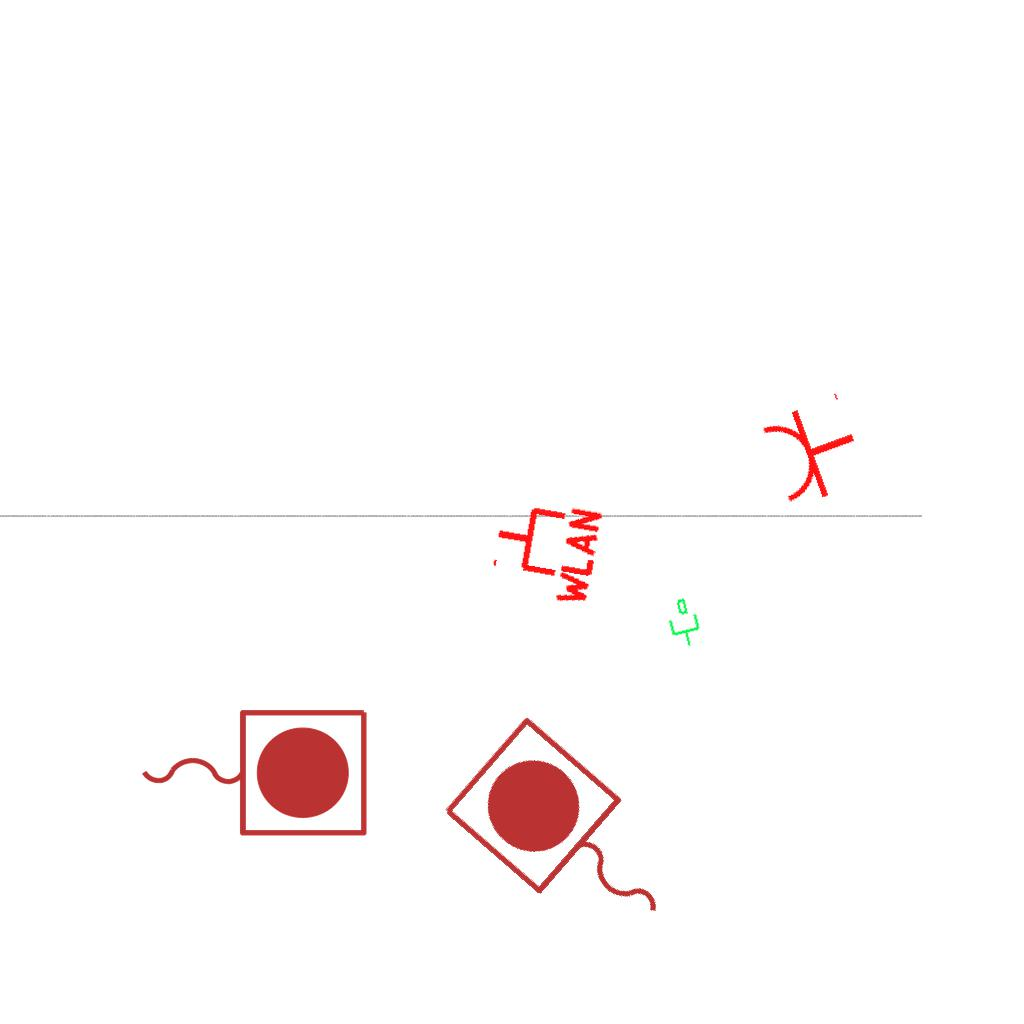Datenanschluss_einfach: (660, 594, 706, 652)
Schukosteckdose_einfach: (755, 388, 872, 512)
WLAN: (483, 490, 606, 612)
Zugtaster: (430, 705, 710, 975), (131, 699, 375, 843)
